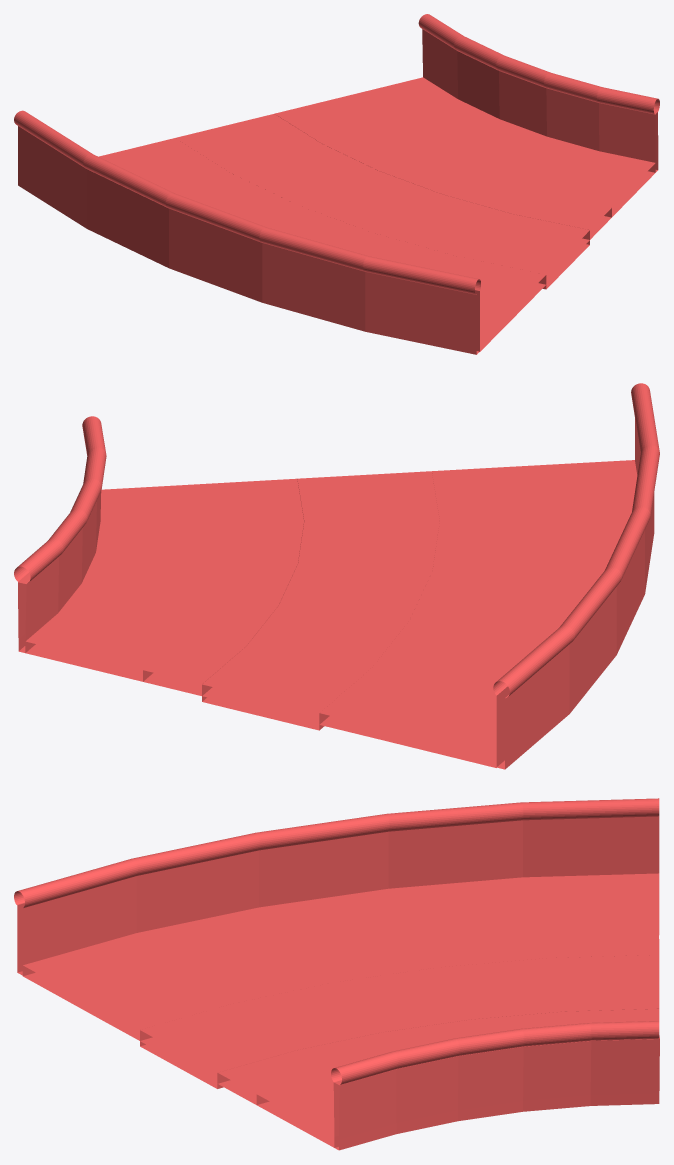
File: trackpiece-curve-45-placed.glb
The picture shows the model from 3 angles, top to bottom: view 1: azimuth 30°, elevation 25°; view 2: azimuth 150°, elevation 25°; view 3: azimuth 270°, elevation 25°; orthographic projection. The views are drawn at different scales.
Visible parts, largest first — view 1: Track piece/short; view 2: Track piece/short; view 3: Track piece/short.
Part boxes in pixels (left/top/right/bottom): Track piece/short: left=14, top=14, right=659, bottom=354; Track piece/short: left=14, top=383, right=659, bottom=769; Track piece/short: left=14, top=798, right=659, bottom=1150.
Size of the model in its own units: 10.02 by 1.51 by 10.
